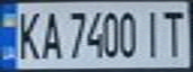0: (118, 7, 142, 60), (103, 8, 121, 60)
4: (84, 7, 106, 60)
7: (63, 7, 87, 60)
A: (36, 7, 63, 61)
I: (139, 7, 166, 58)
K: (12, 7, 42, 61)
T: (160, 6, 190, 58)
